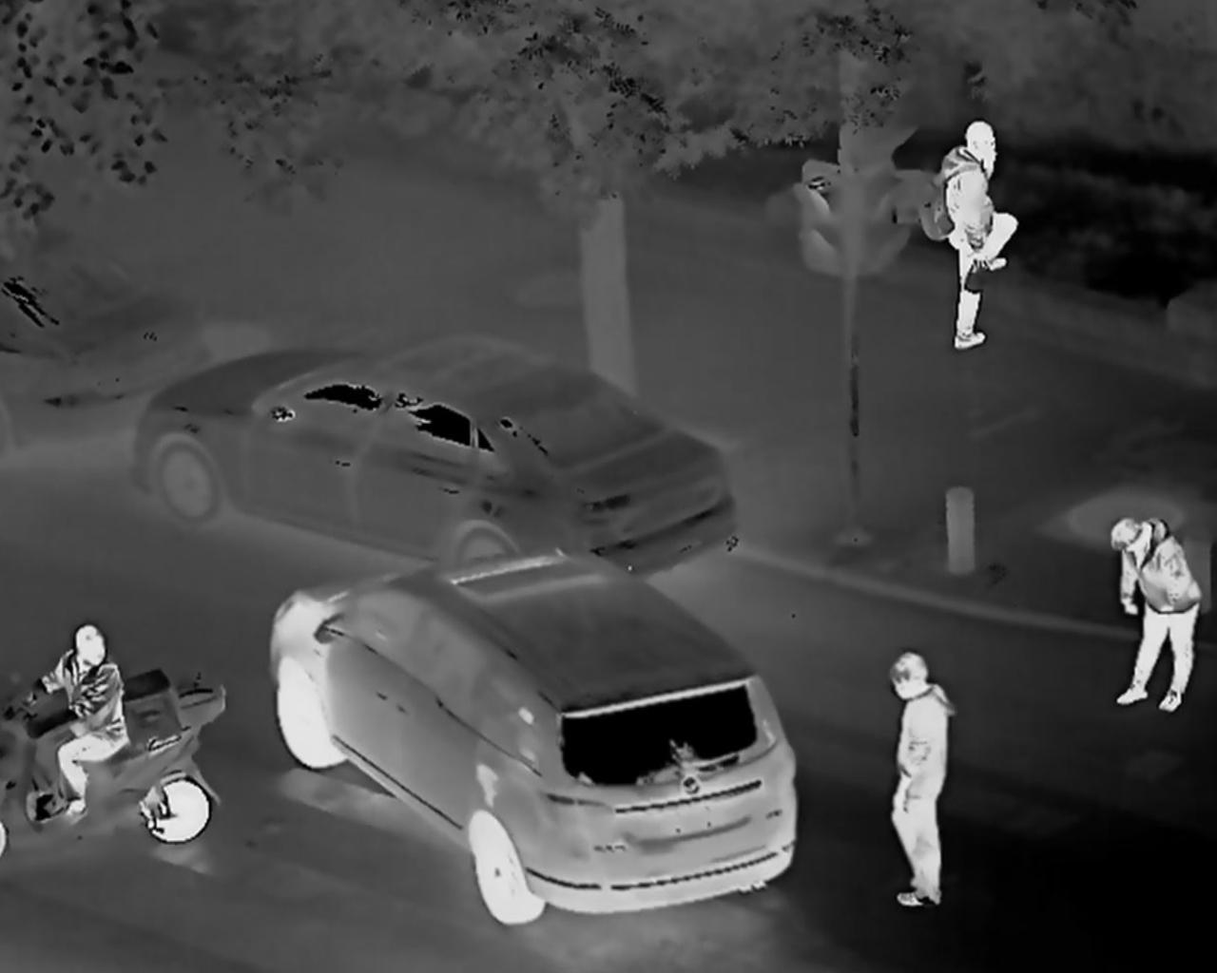person: (924, 109, 1021, 363), (17, 617, 133, 809), (1106, 522, 1207, 719), (884, 653, 958, 910)
